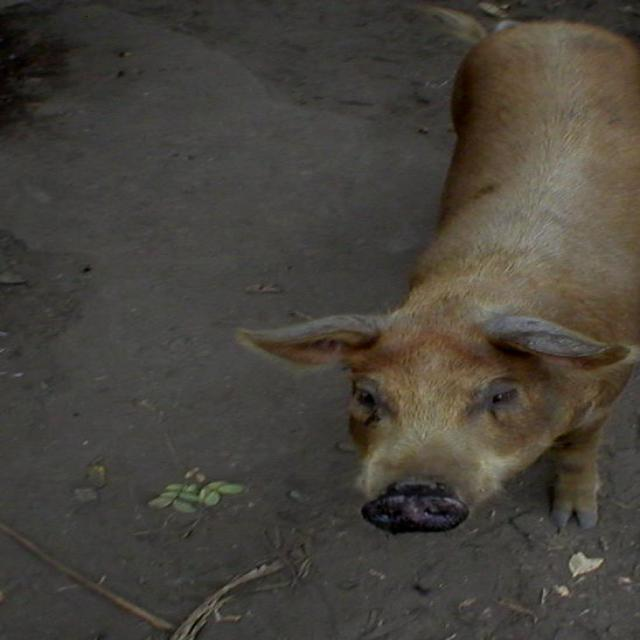pig: (240, 22, 638, 532)
